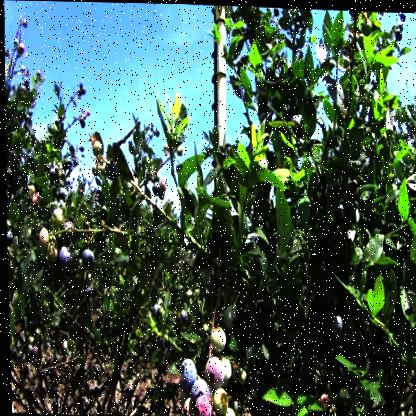intermediate: (203, 356, 223, 387), (194, 396, 211, 416), (316, 392, 328, 412), (158, 178, 166, 192), (30, 193, 39, 205)
mature: (173, 358, 195, 389), (56, 239, 74, 272), (189, 378, 209, 397), (330, 311, 343, 338), (80, 246, 93, 268), (177, 306, 187, 326), (6, 230, 13, 248), (150, 182, 158, 197)
young: (208, 322, 225, 354), (36, 224, 49, 261), (211, 387, 227, 413), (179, 395, 196, 416), (51, 207, 65, 232), (221, 352, 231, 386), (47, 242, 58, 268), (360, 18, 375, 37), (89, 139, 103, 157), (220, 406, 239, 416), (90, 159, 99, 177), (98, 158, 107, 174), (174, 145, 184, 158), (58, 338, 67, 352)
